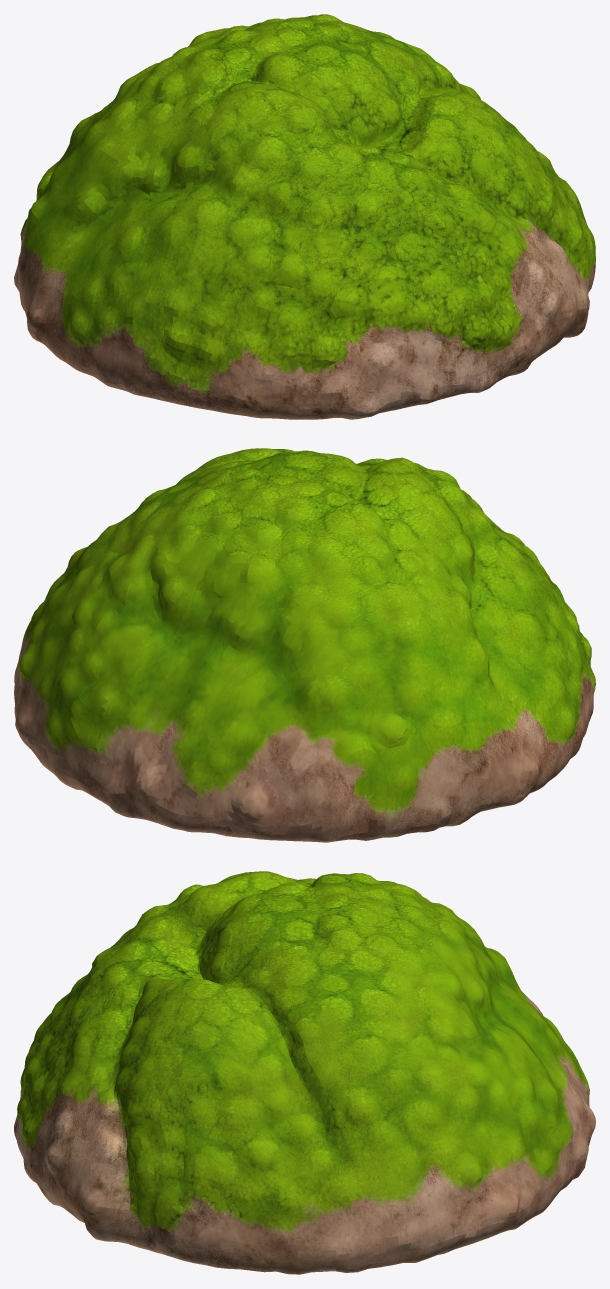
The model's file is veg_ground_moss_01.glb.
3 renders of one model, top to bottom at view 1: azimuth 30°, elevation 25°; view 2: azimuth 150°, elevation 25°; view 3: azimuth 270°, elevation 25°, orthographic.
Visible parts, largest first — view 1: veg_ground_moss_01; view 2: veg_ground_moss_01; view 3: veg_ground_moss_01.
Boxes of the visible parts, left/top/right/bottom form: veg_ground_moss_01: left=14, top=14, right=595, bottom=419; veg_ground_moss_01: left=14, top=448, right=595, bottom=842; veg_ground_moss_01: left=14, top=871, right=595, bottom=1274.
Bounding box in the file's own units: 0.1499 × 0.0754 × 0.15.
Materials: 1 (1 with a texture image).
